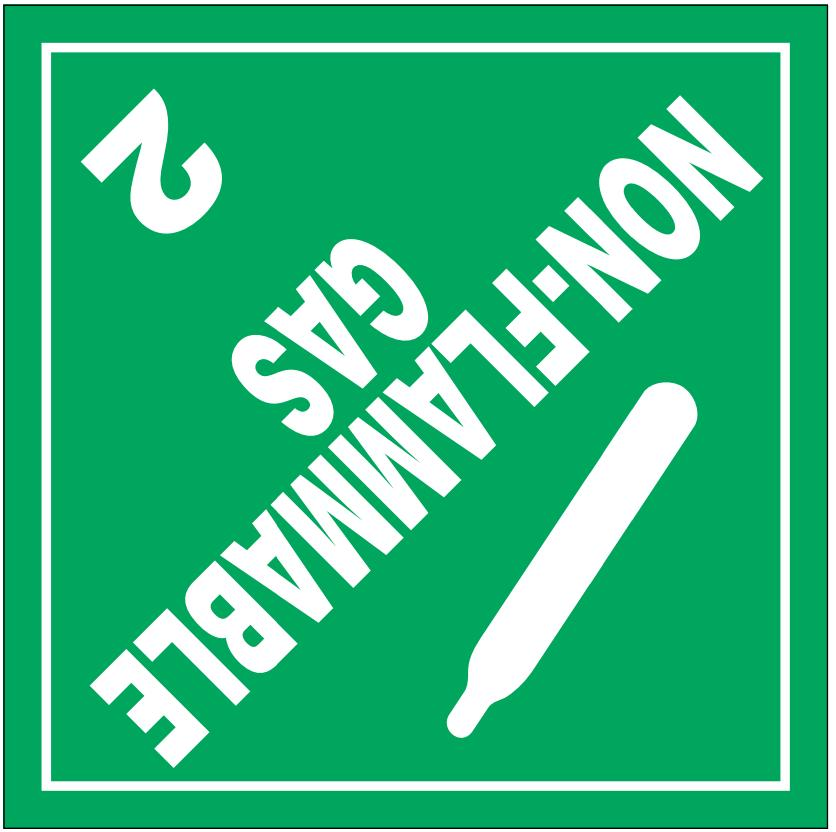non-flammable-gas: (1, 1, 836, 832)
